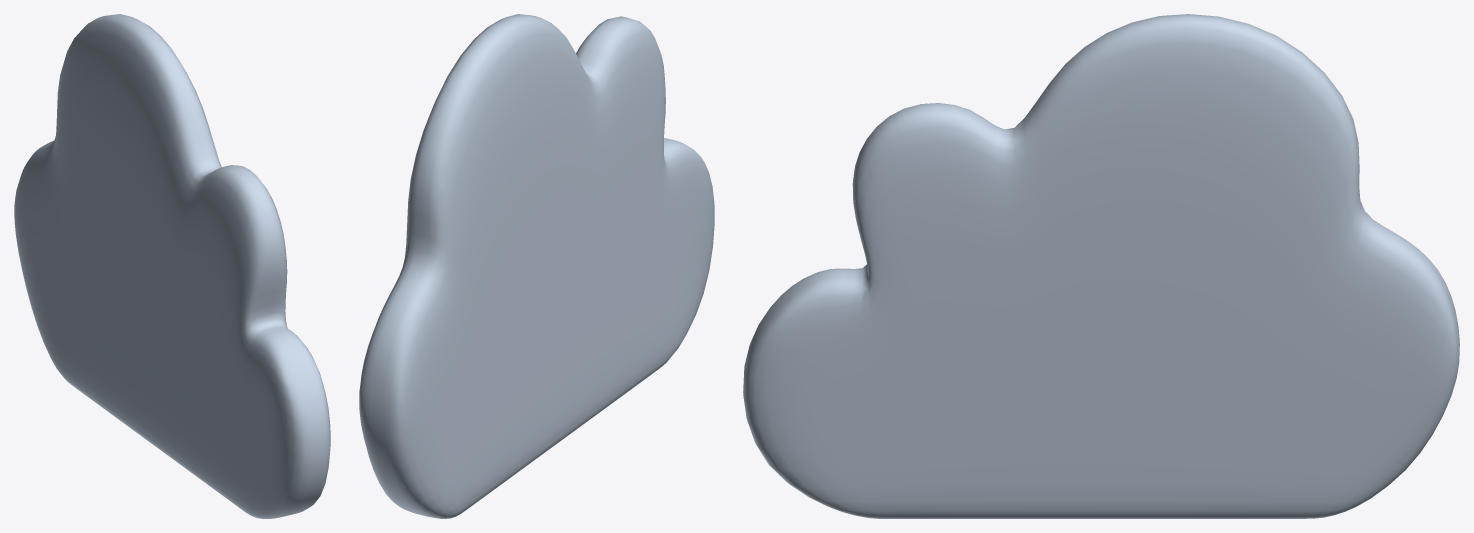
The model's file is flying.fbx.
3 views of the same model, side by side, from view 1: azimuth 30°, elevation 25°; view 2: azimuth 150°, elevation 25°; view 3: azimuth 270°, elevation 25° (orthographic). The views are drawn at different scales.
Parts seen in each view (by area): view 1: Flying; view 2: Flying; view 3: Flying.
Part boxes in pixels (left/top/right/bottom): Flying: left=14, top=14, right=330, bottom=518; Flying: left=359, top=14, right=714, bottom=518; Flying: left=743, top=14, right=1459, bottom=518.
Size of the model in its own units: 10.86 by 92.29 by 121.
